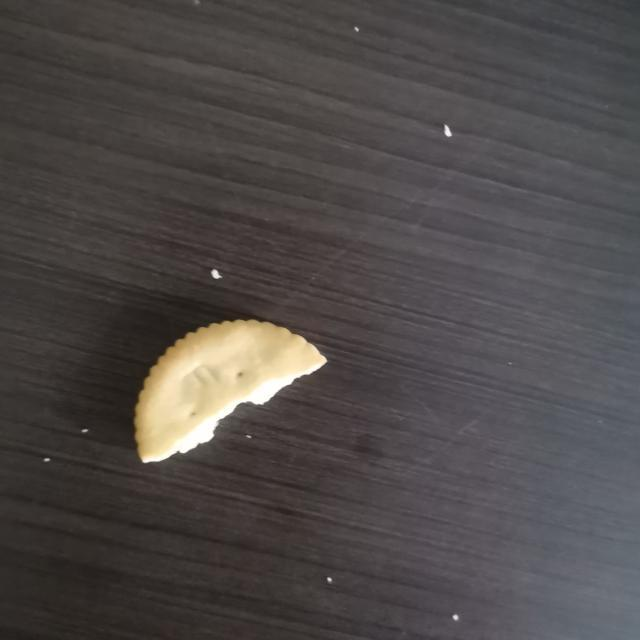Broken: (132, 317, 328, 464)
